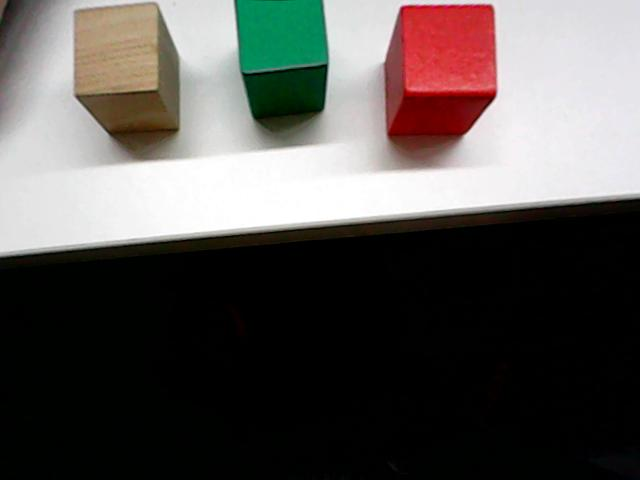green_box: (230, 0, 332, 130)
raw_box: (69, 1, 184, 142)
red_box: (380, 2, 501, 142)
